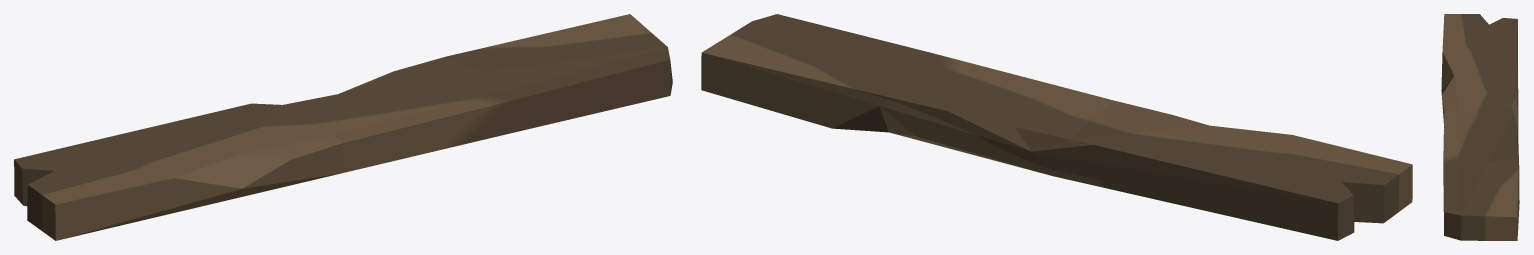
Rendered from SM_Prop_Plank_01.fbx.
The picture shows the model from 3 angles, left to right: view 1: azimuth 30°, elevation 25°; view 2: azimuth 150°, elevation 25°; view 3: azimuth 270°, elevation 25°; orthographic projection. The views are drawn at different scales.
Visible parts, largest first — view 1: SM_Prop_Plank_01; view 2: SM_Prop_Plank_01; view 3: SM_Prop_Plank_01.
Part boxes in pixels (left/top/right/bottom): SM_Prop_Plank_01: left=14, top=14, right=672, bottom=240; SM_Prop_Plank_01: left=701, top=14, right=1412, bottom=240; SM_Prop_Plank_01: left=1441, top=14, right=1519, bottom=240.
Size of the model in its own units: 164 by 11.43 by 27.07.
